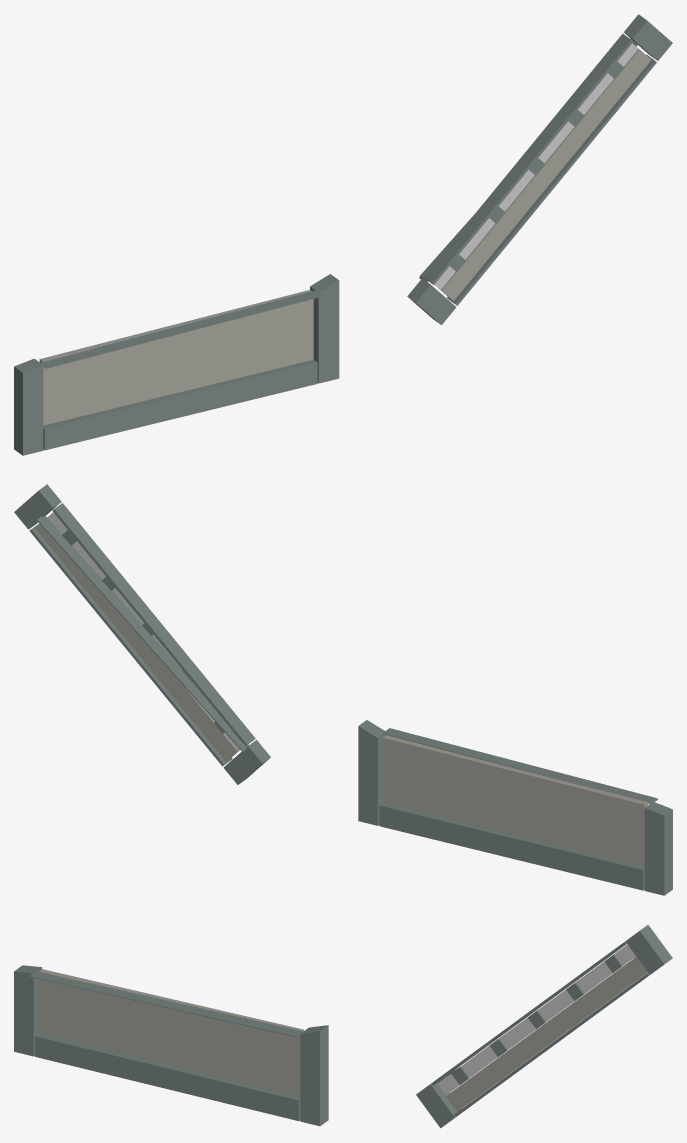
File: SM_PuertaVia_v0_TuboChapa_e2_MuyDanado_LOD1.fbx
3 renders of one model, top to bottom at view 1: azimuth 30°, elevation 25°; view 2: azimuth 150°, elevation 25°; view 3: azimuth 330°, elevation 25°, orthographic. The views are drawn at different scales.
Parts seen in each view (by area): view 1: Hoja_O, Hoja_E; view 2: Hoja_O, Hoja_E; view 3: Hoja_O, Hoja_E.
Part boxes in pixels (x1,y1,x2,y2): Hoja_O: (14,274,339,455); Hoja_E: (407,14,672,325); Hoja_O: (358,720,672,895); Hoja_E: (14,484,270,784); Hoja_O: (14,965,328,1126); Hoja_E: (416,925,672,1128).
Size of what is drawn, in the model's own units: 5.18 by 2.04 by 0.39.
